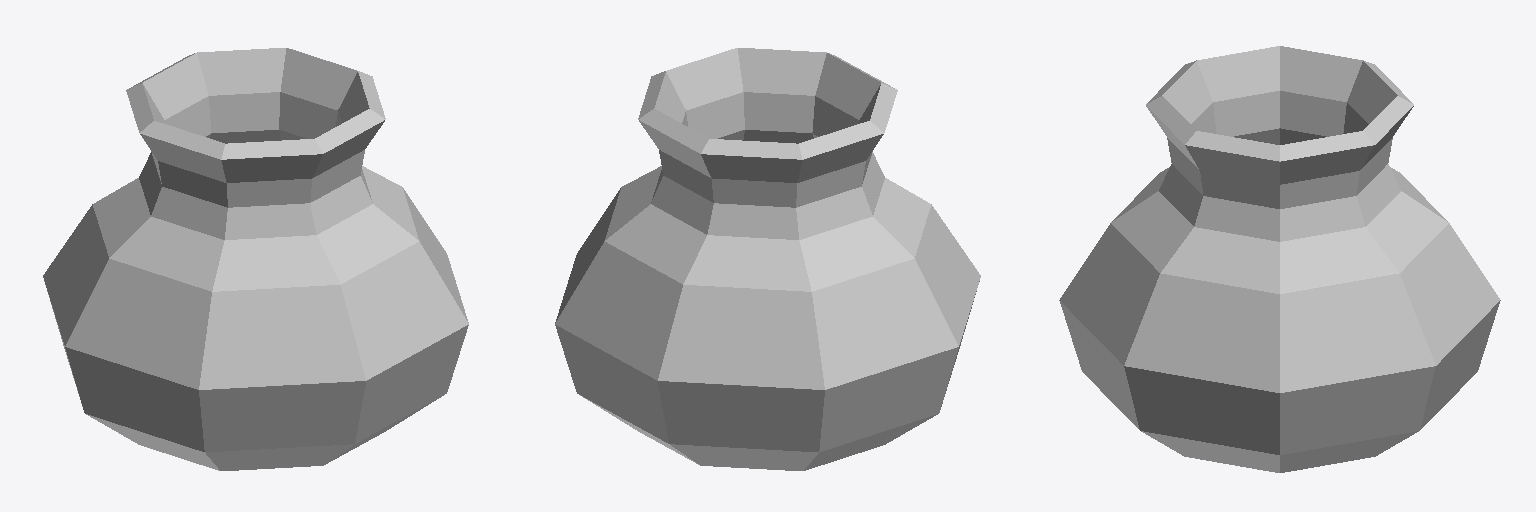
The model's file is Cauldron.obj.
3 views of the same model, side by side, from view 1: azimuth 30°, elevation 25°; view 2: azimuth 150°, elevation 25°; view 3: azimuth 270°, elevation 25° (orthographic).
Visible parts, largest first — view 1: Cube; view 2: Cube; view 3: Cube.
Part boxes in pixels (x1,y1,x2,y2): Cube: (43, 48, 468, 470); Cube: (555, 48, 980, 470); Cube: (1059, 46, 1500, 472).
Bounding box in the file's own units: 2.23 × 1.79 × 2.23.